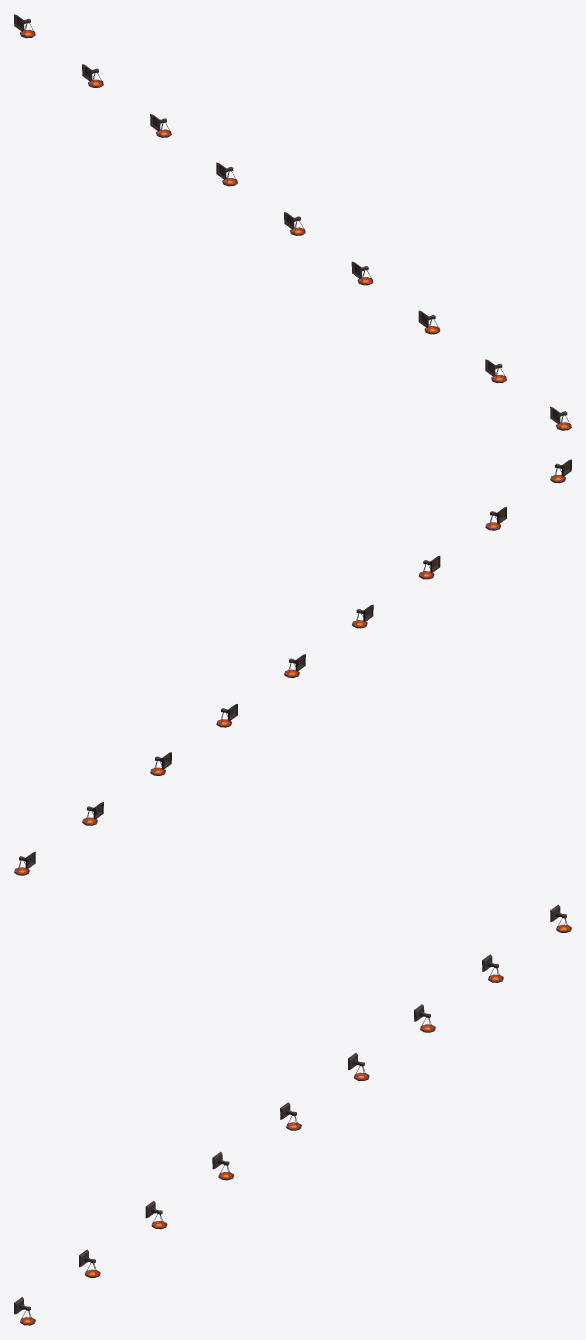
Rendered from wujian10.fbx.
The picture shows the model from 3 angles, top to bottom: view 1: azimuth 30°, elevation 25°; view 2: azimuth 150°, elevation 25°; view 3: azimuth 330°, elevation 25°; orthographic projection.
Visible parts, largest first — view 1: wujian10; view 2: wujian10; view 3: wujian10.
Boxes of the visible parts, box(x1,y1,x2,y2) form: wujian10: box(14, 14, 571, 430); wujian10: box(14, 459, 571, 875); wujian10: box(14, 904, 571, 1325).
Bounding box in the file's own units: 133 × 153 × 7431.
Materials: 1 (1 with a texture image).
